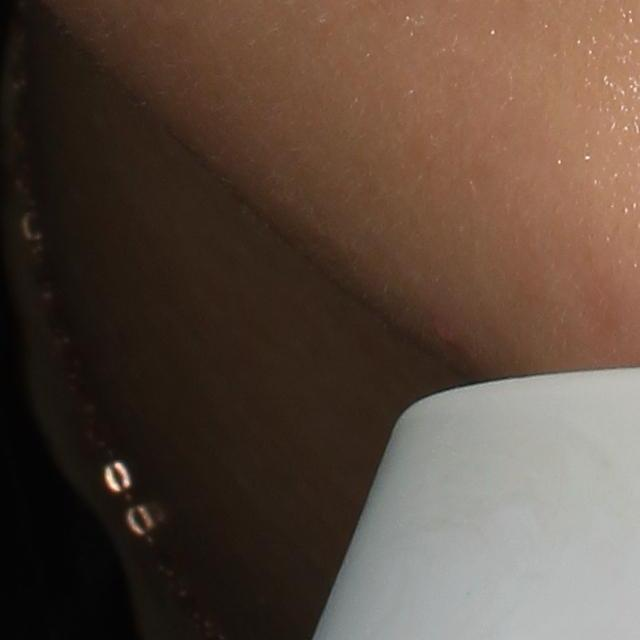papule: (435, 316, 460, 349)
